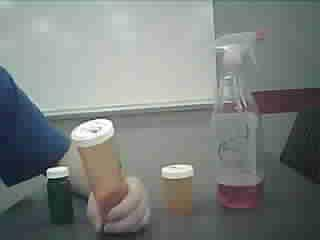Bottle A: (80, 112, 135, 219)
Bottle B: (163, 154, 196, 219)
Bottle C: (46, 165, 78, 225)
hazard: (206, 33, 274, 215)
